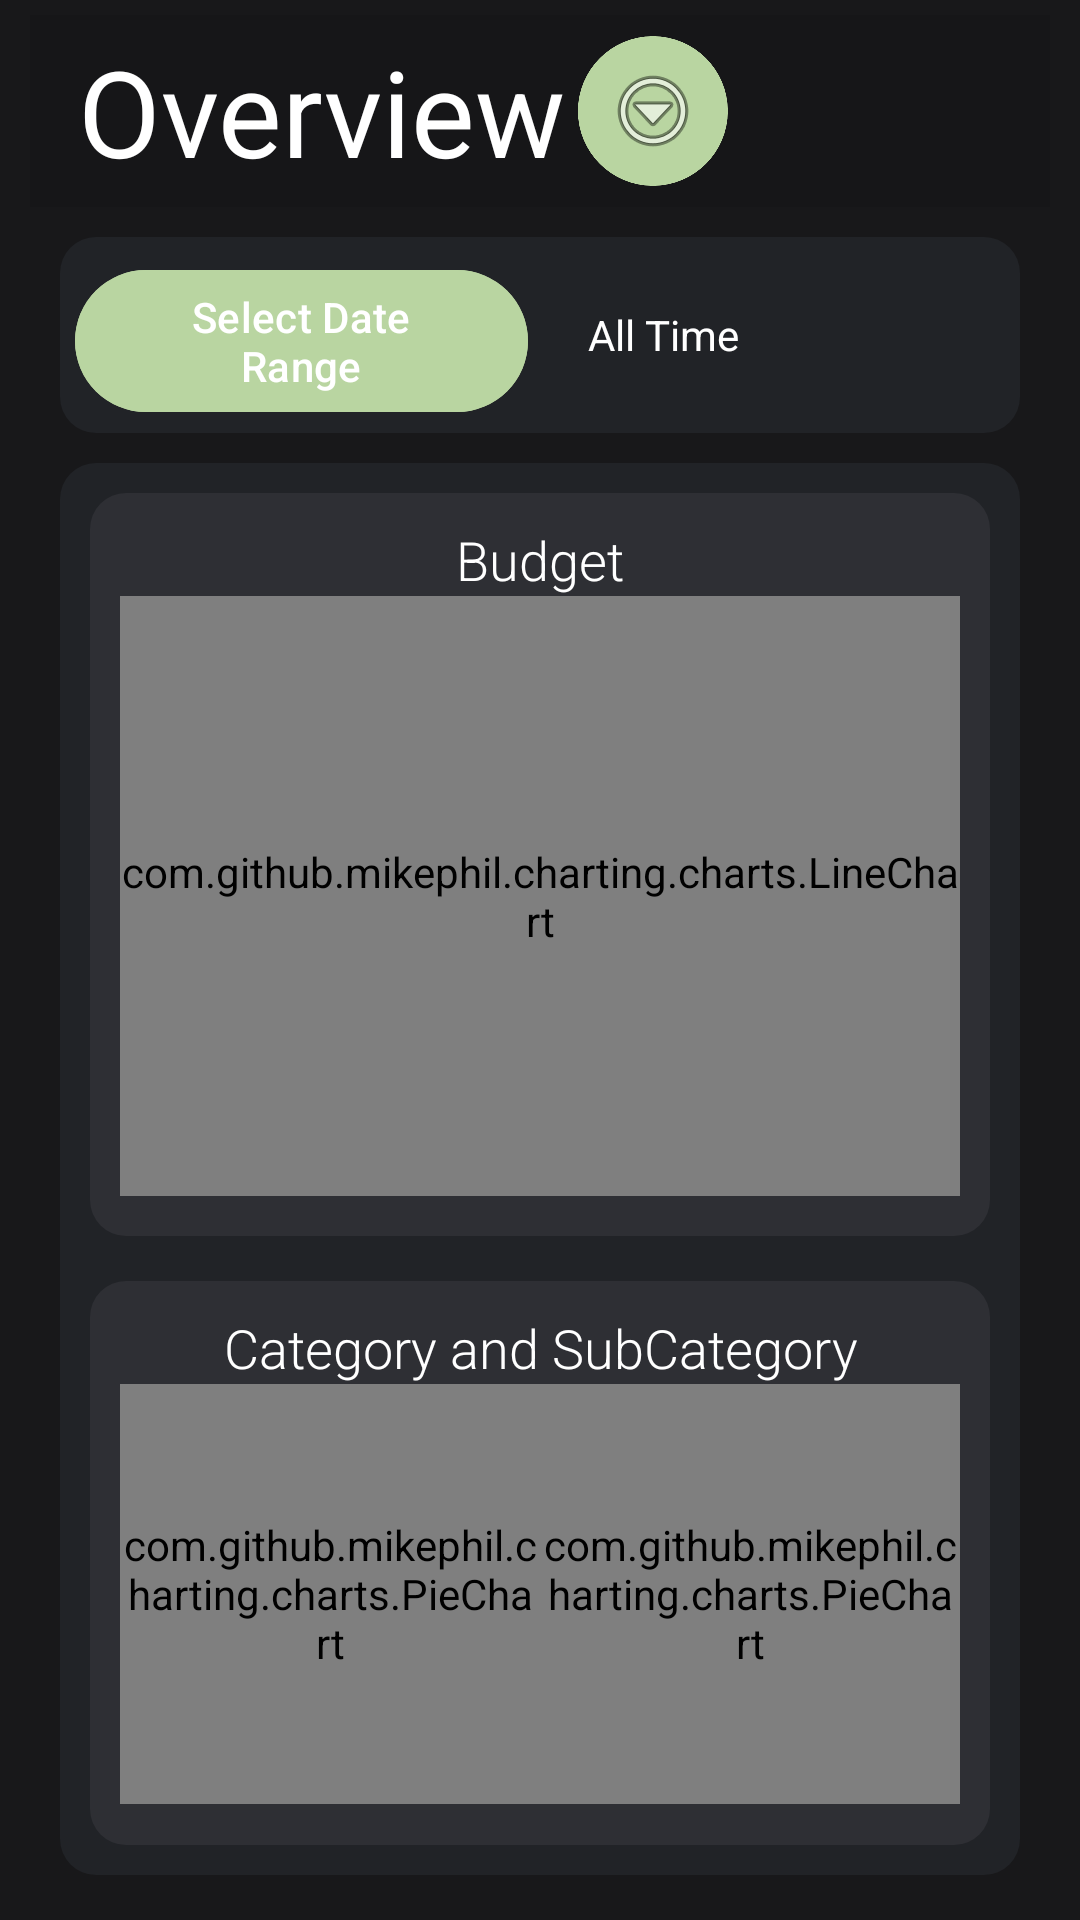

Where to tap for icons on this 1080*1920 app screen, as (x,y):
Menu button: (653,111)
